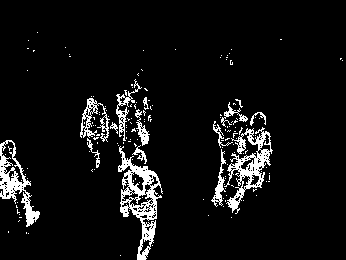person: (121, 150, 164, 259), (233, 109, 273, 213), (214, 98, 251, 209), (1, 136, 44, 225), (113, 93, 150, 179), (79, 97, 108, 173)
